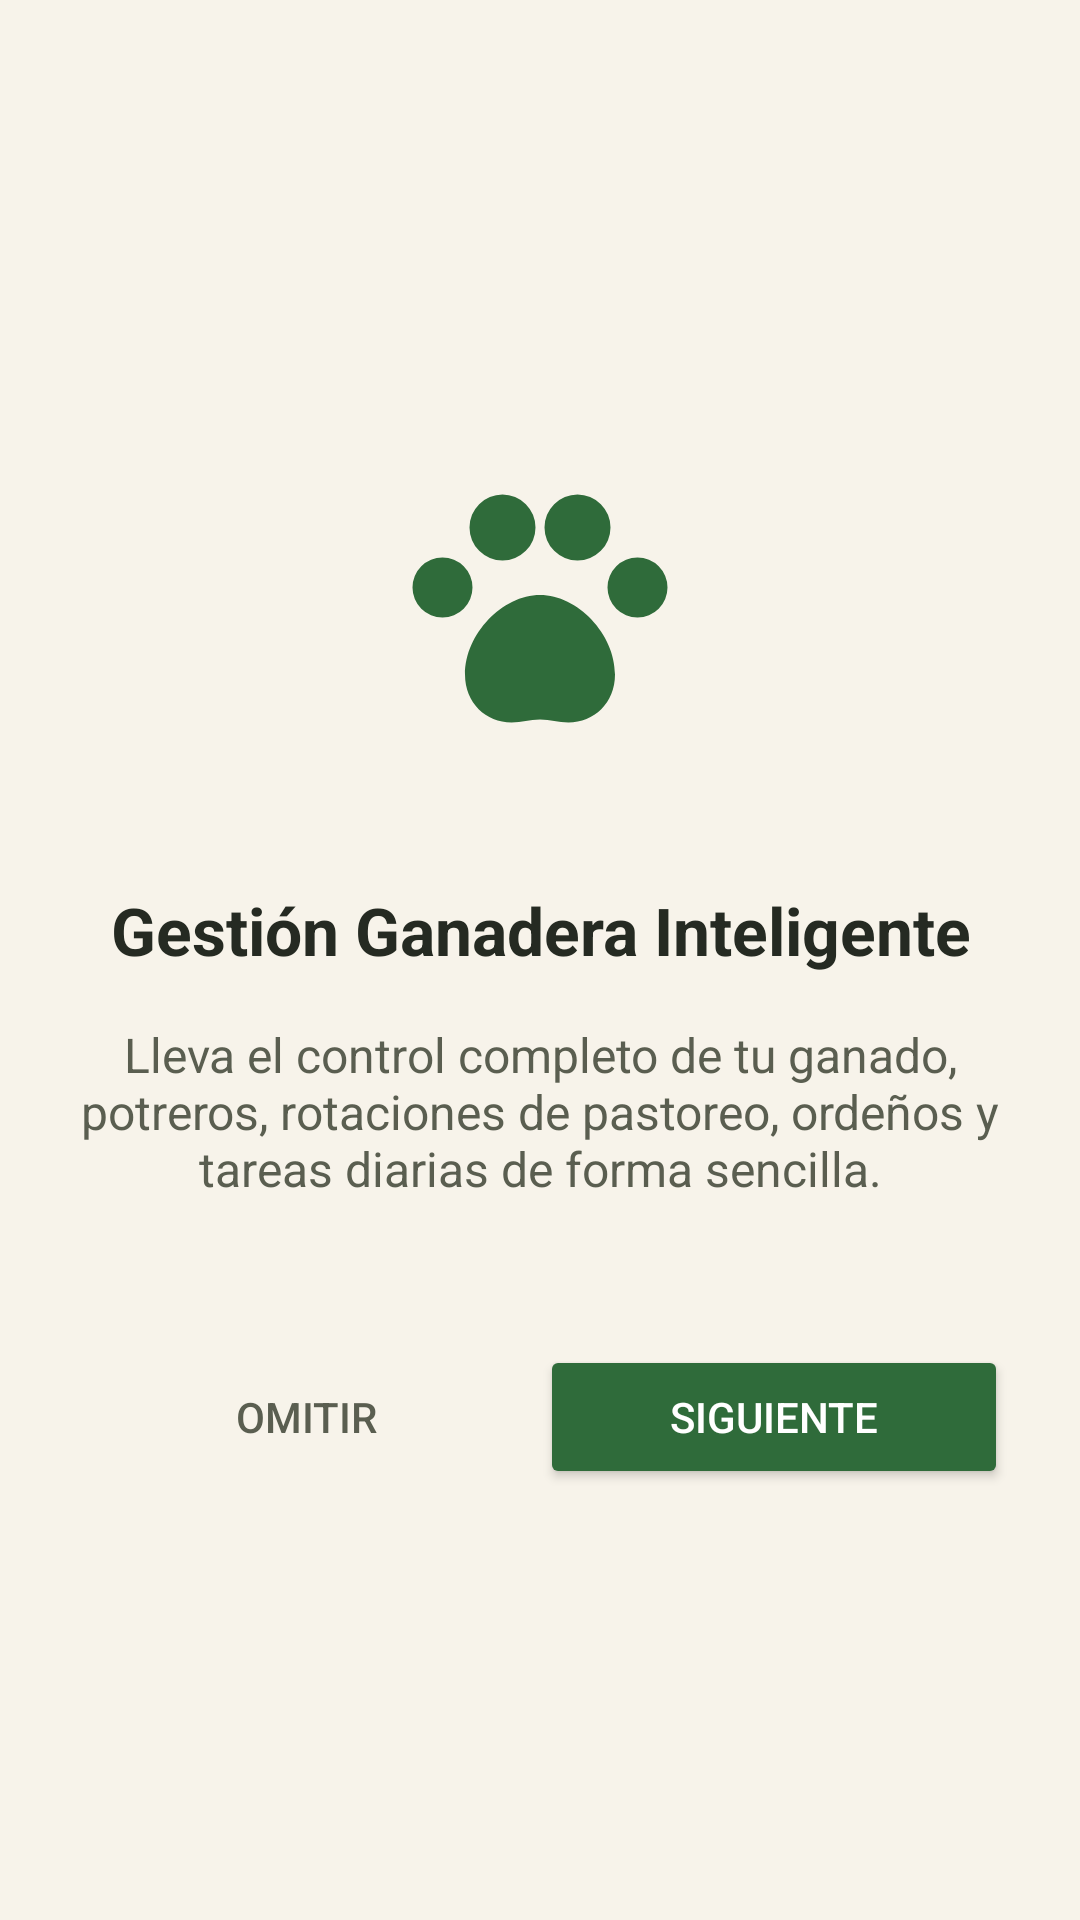

Screen size 1080w x 1920h. Icon name, then its box in pixels as (x1, y1, x2, y2):
Icono de ganado: (412, 494, 668, 723)
